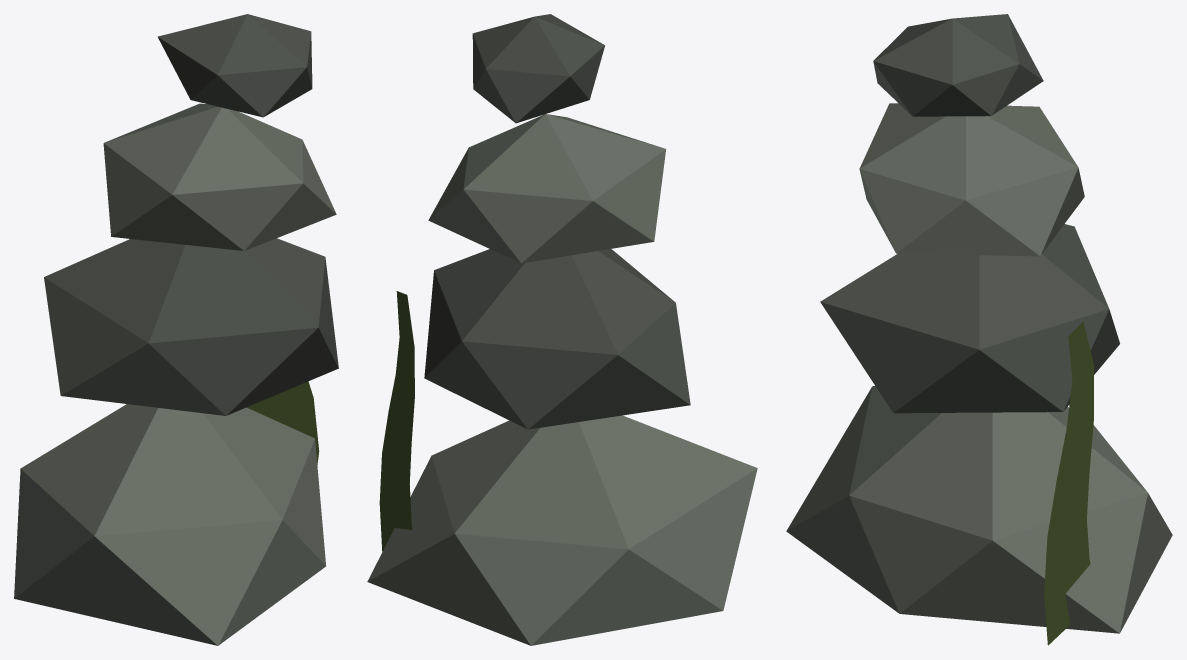
File: rock_stack.glb
3 views of the same model, side by side, from view 1: azimuth 30°, elevation 25°; view 2: azimuth 150°, elevation 25°; view 3: azimuth 270°, elevation 25° (orthographic). The views are drawn at different scales.
Parts seen in each view (by area): view 1: rock_stack; view 2: rock_stack; view 3: rock_stack.
Part boxes in pixels (box(x1,y1,x2,y2)): rock_stack: box(14, 14, 338, 645); rock_stack: box(367, 14, 757, 645); rock_stack: box(786, 14, 1172, 645).
Bounding box in the file's own units: 1.48 × 2.35 × 1.44.
